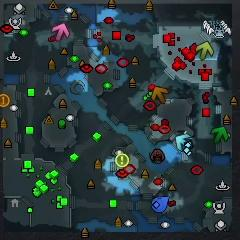p1: (152, 196, 171, 212)
x1: (52, 24, 69, 42)
x2: (196, 41, 214, 60)
x3: (176, 134, 192, 150)
x4: (211, 127, 229, 145)
x5: (152, 88, 168, 103)
